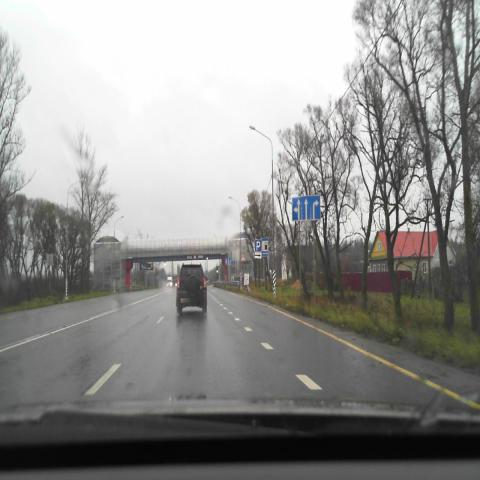5_15_1: (292, 195, 320, 221)
